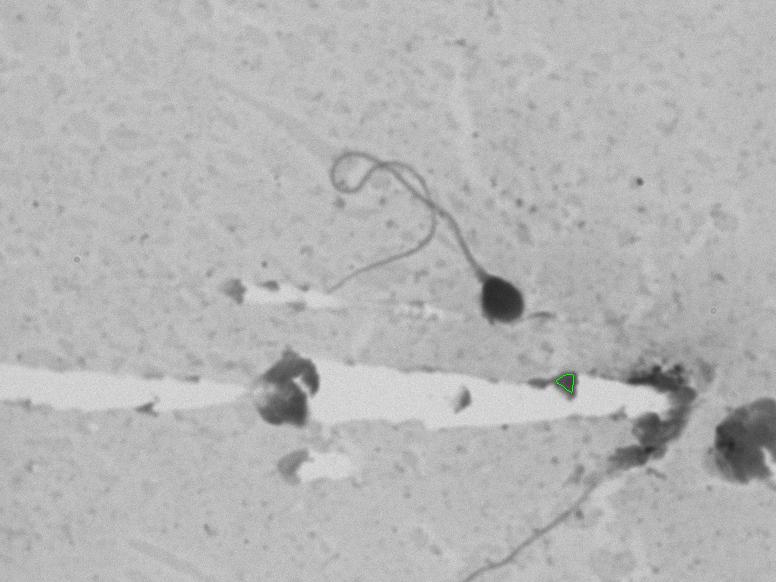Abnormal: (306, 122, 555, 343)
